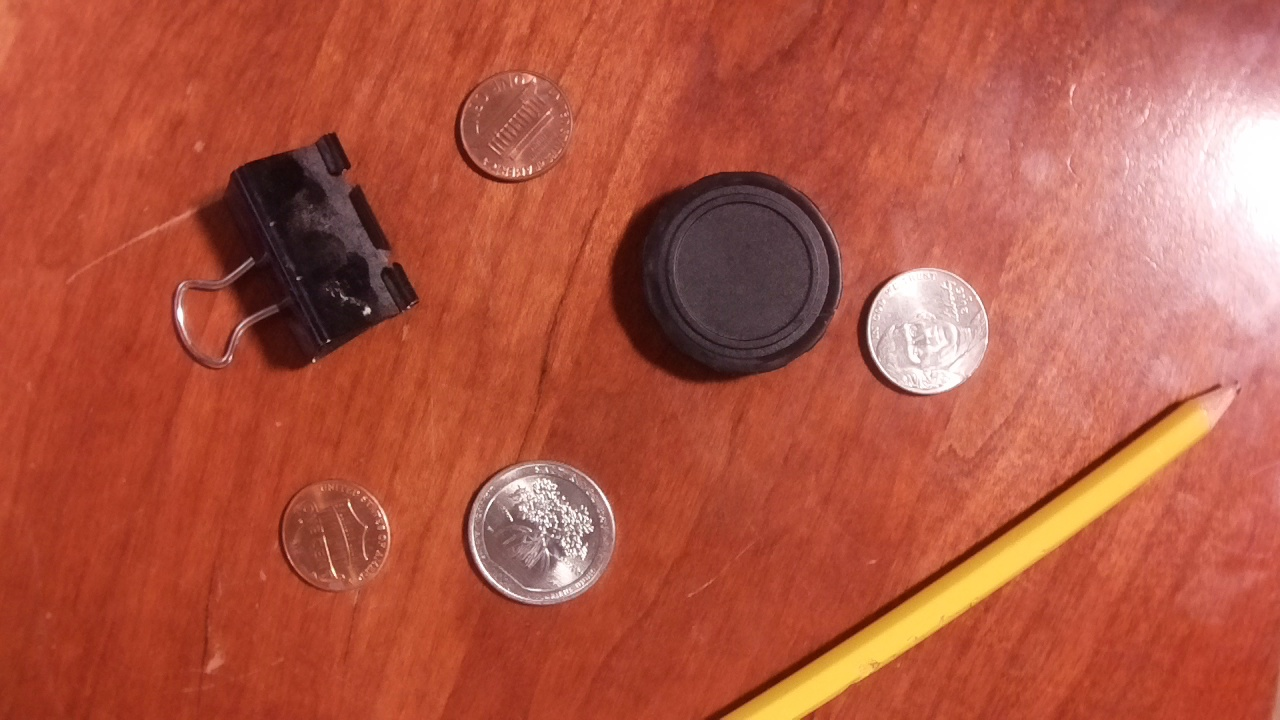nickel: (860, 267, 991, 395)
penny: (454, 68, 574, 186), (277, 478, 392, 592)
quarter: (463, 458, 617, 609)
